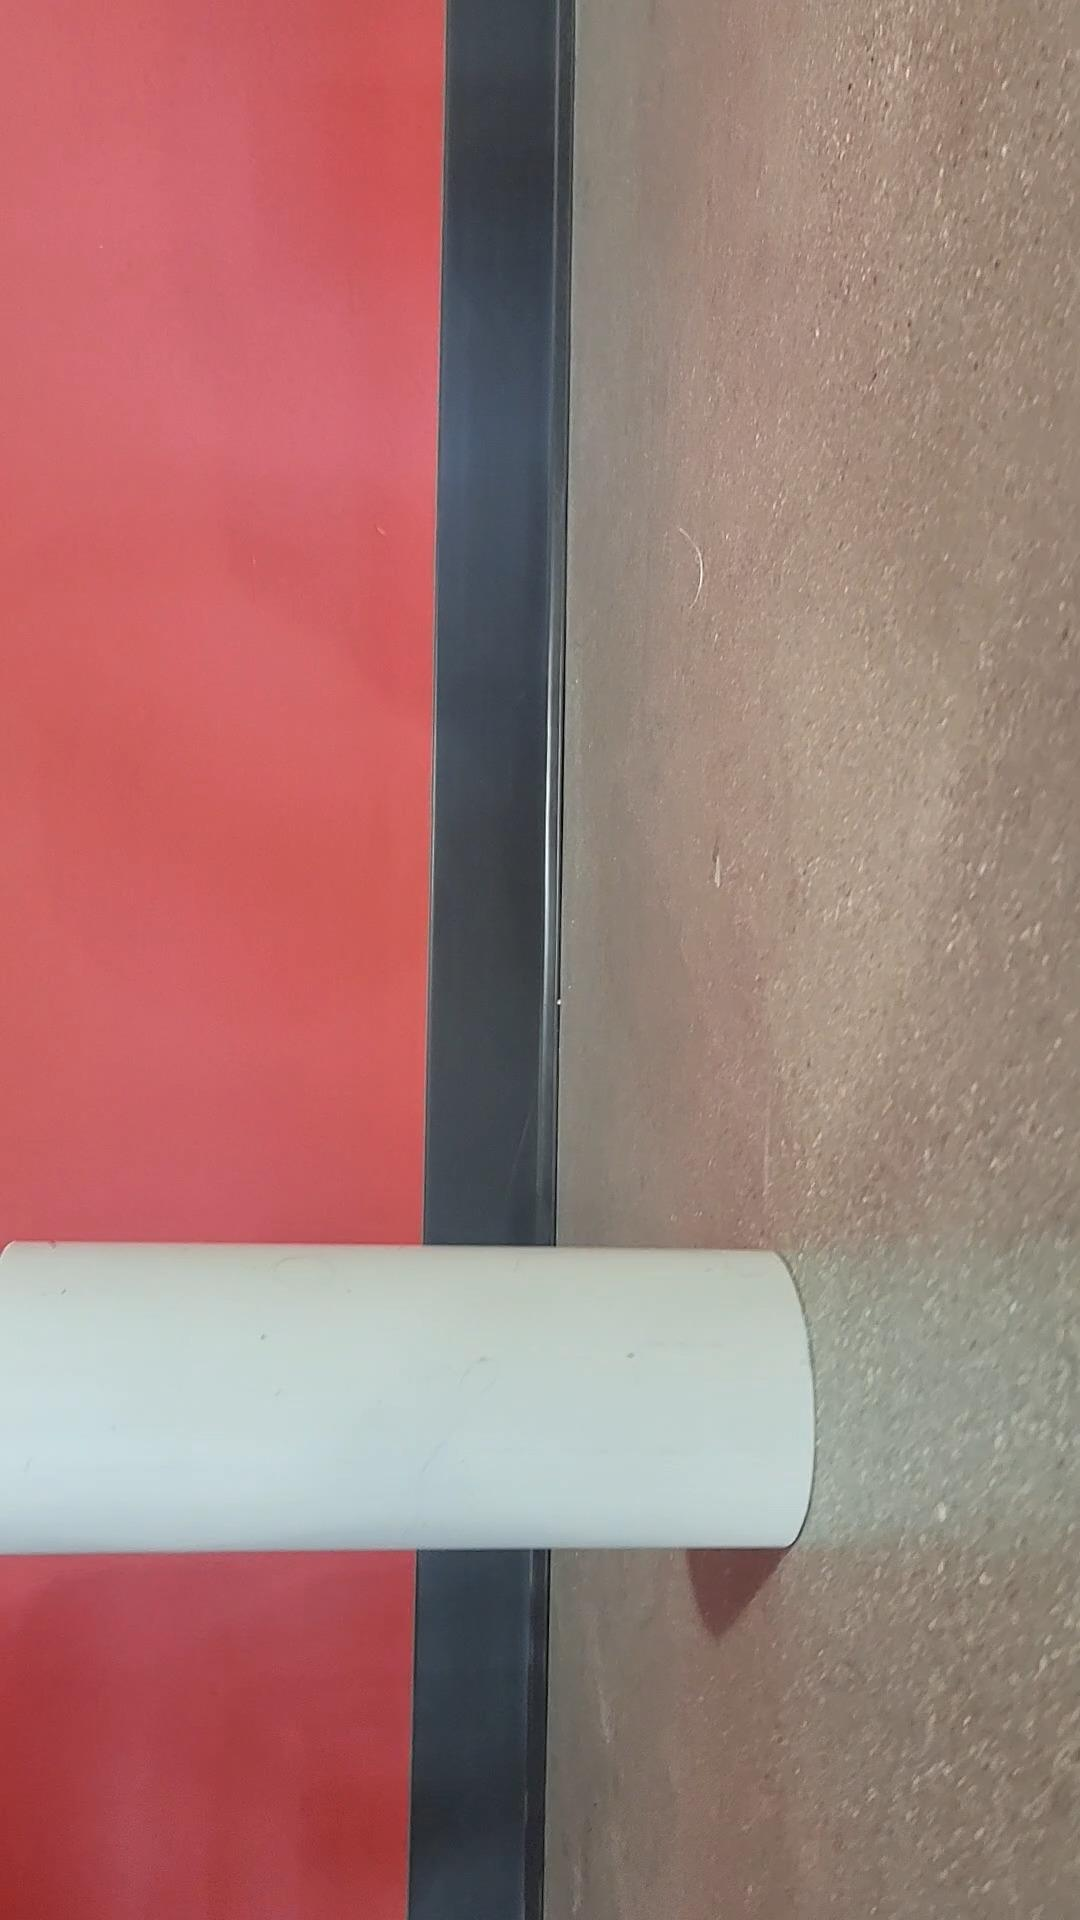coral: (0, 1242, 818, 1548)
